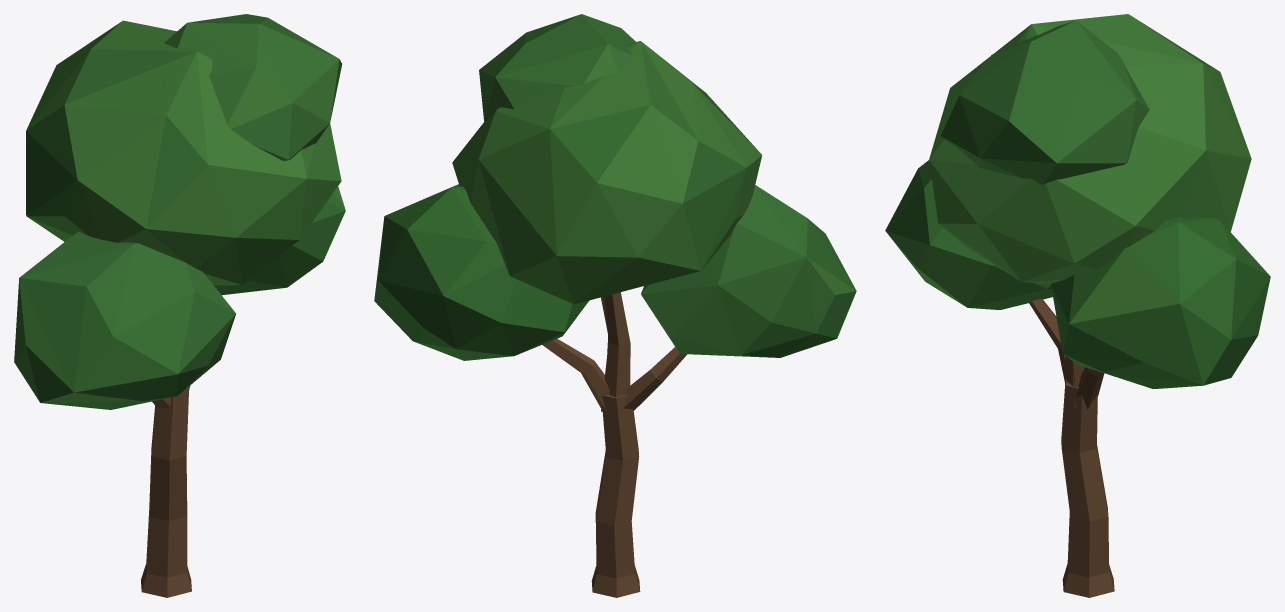
The model's file is arbol_platano_a.glb.
The picture shows the model from 3 angles, left to right: view 1: azimuth 30°, elevation 25°; view 2: azimuth 150°, elevation 25°; view 3: azimuth 270°, elevation 25°; orthographic projection. The views are drawn at different scales.
Parts seen in each view (by area): view 1: arbol_platano_a_copa, arbol_platano_a_tronco; view 2: arbol_platano_a_copa, arbol_platano_a_tronco; view 3: arbol_platano_a_copa, arbol_platano_a_tronco.
Part boxes in pixels (bbox=[...]): arbol_platano_a_copa: bbox=[14, 14, 345, 409]; arbol_platano_a_tronco: bbox=[141, 386, 191, 597]; arbol_platano_a_copa: bbox=[374, 14, 856, 360]; arbol_platano_a_tronco: bbox=[542, 292, 686, 597]; arbol_platano_a_copa: bbox=[885, 14, 1270, 388]; arbol_platano_a_tronco: bbox=[1029, 299, 1114, 597].
Size of what is drawn, in the model's own units: 5 by 7 by 4.25.
